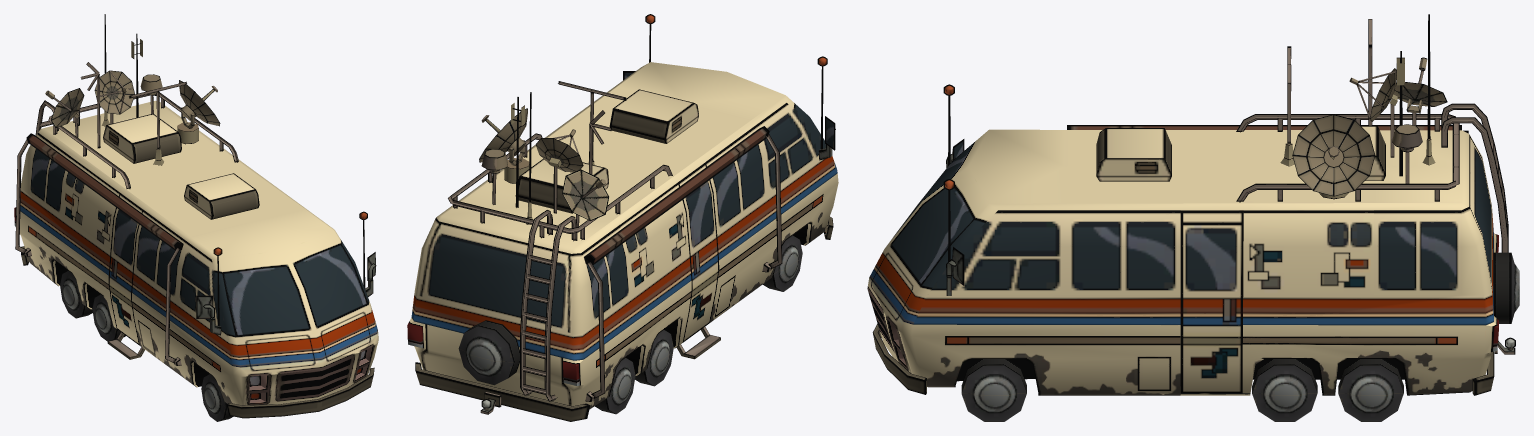
The model's file is rustbucket.glb.
3 renders of one model, left to right at view 1: azimuth 30°, elevation 25°; view 2: azimuth 150°, elevation 25°; view 3: azimuth 270°, elevation 25°, orthographic. The views are drawn at different scales.
Parts seen in each view (by area): view 1: obj1_0; view 2: obj1_0; view 3: obj1_0.
Boxes of the visible parts, x1,y1,x2,y2 form: obj1_0: (14, 14, 378, 421); obj1_0: (407, 14, 838, 421); obj1_0: (867, 14, 1519, 421).
Bounding box in the file's own units: 3.57 × 5.18 × 8.43.
Materials: 1 (1 with a texture image).
